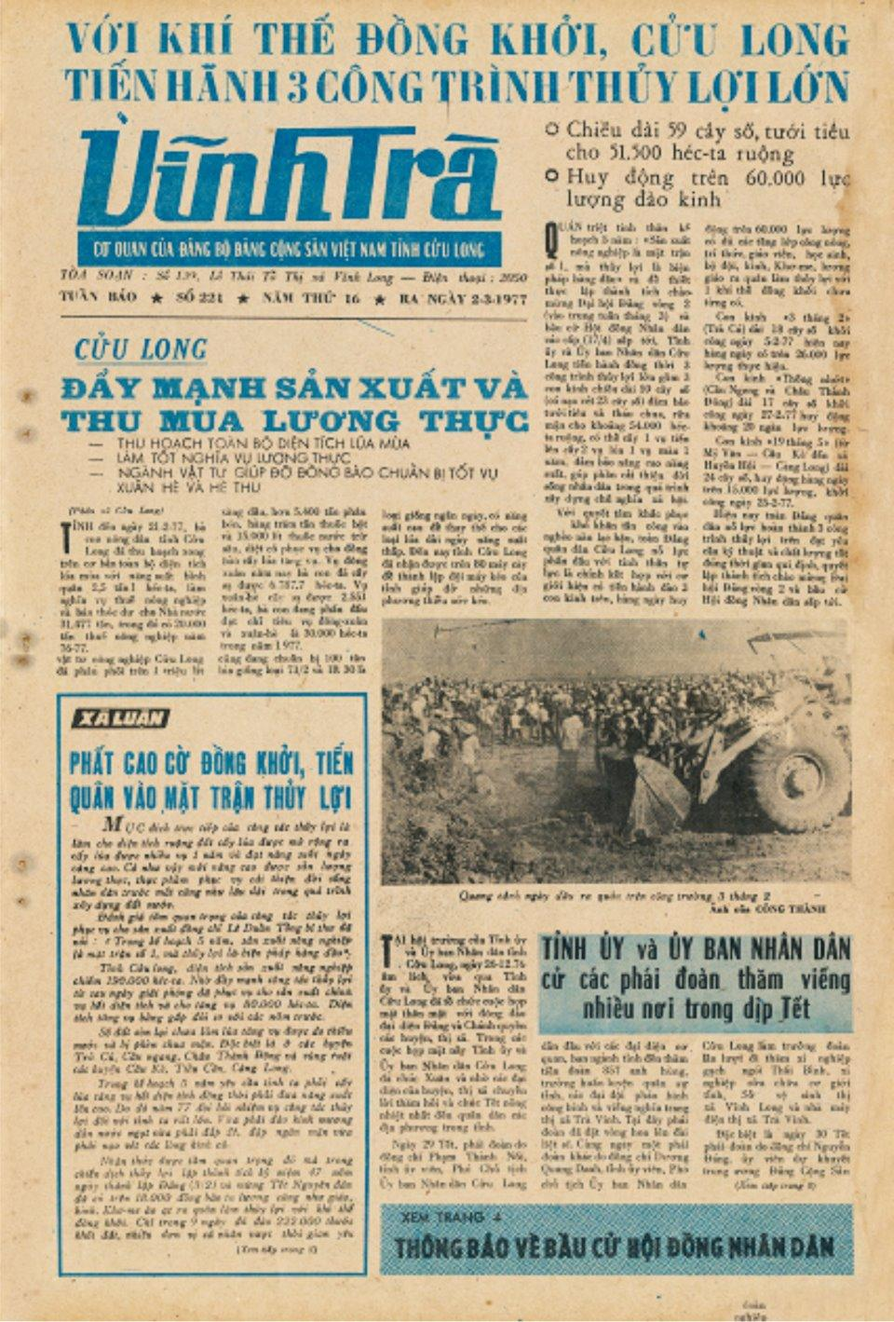paper: (4, 0, 887, 1318)
